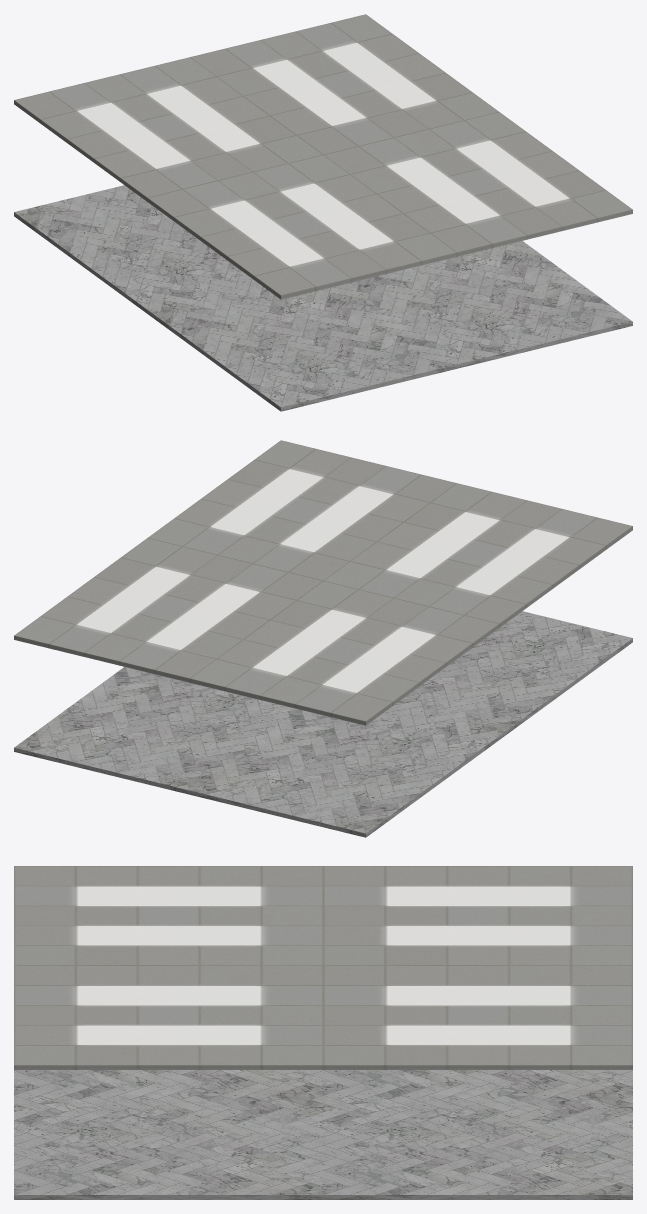
Rendered from room.fbx.
3 views of the same model, one above another, from view 1: azimuth 30°, elevation 25°; view 2: azimuth 150°, elevation 25°; view 3: azimuth 270°, elevation 25° (orthographic). The views are drawn at different scales.
Visible parts, largest first — view 1: Cube_2, Cube_1; view 2: Cube_2, Cube_1; view 3: Cube_2, Cube_1.
Boxes of the visible parts, x1,y1,x2,y2 form: Cube_2: (14,14,632,299); Cube_1: (14,185,632,411); Cube_2: (14,440,632,725); Cube_1: (14,611,632,837); Cube_2: (14,866,632,1069); Cube_1: (14,1070,632,1199).
Bounding box in the file's own units: 287 × 90.58 × 377.
2 materials, 2 textured.
